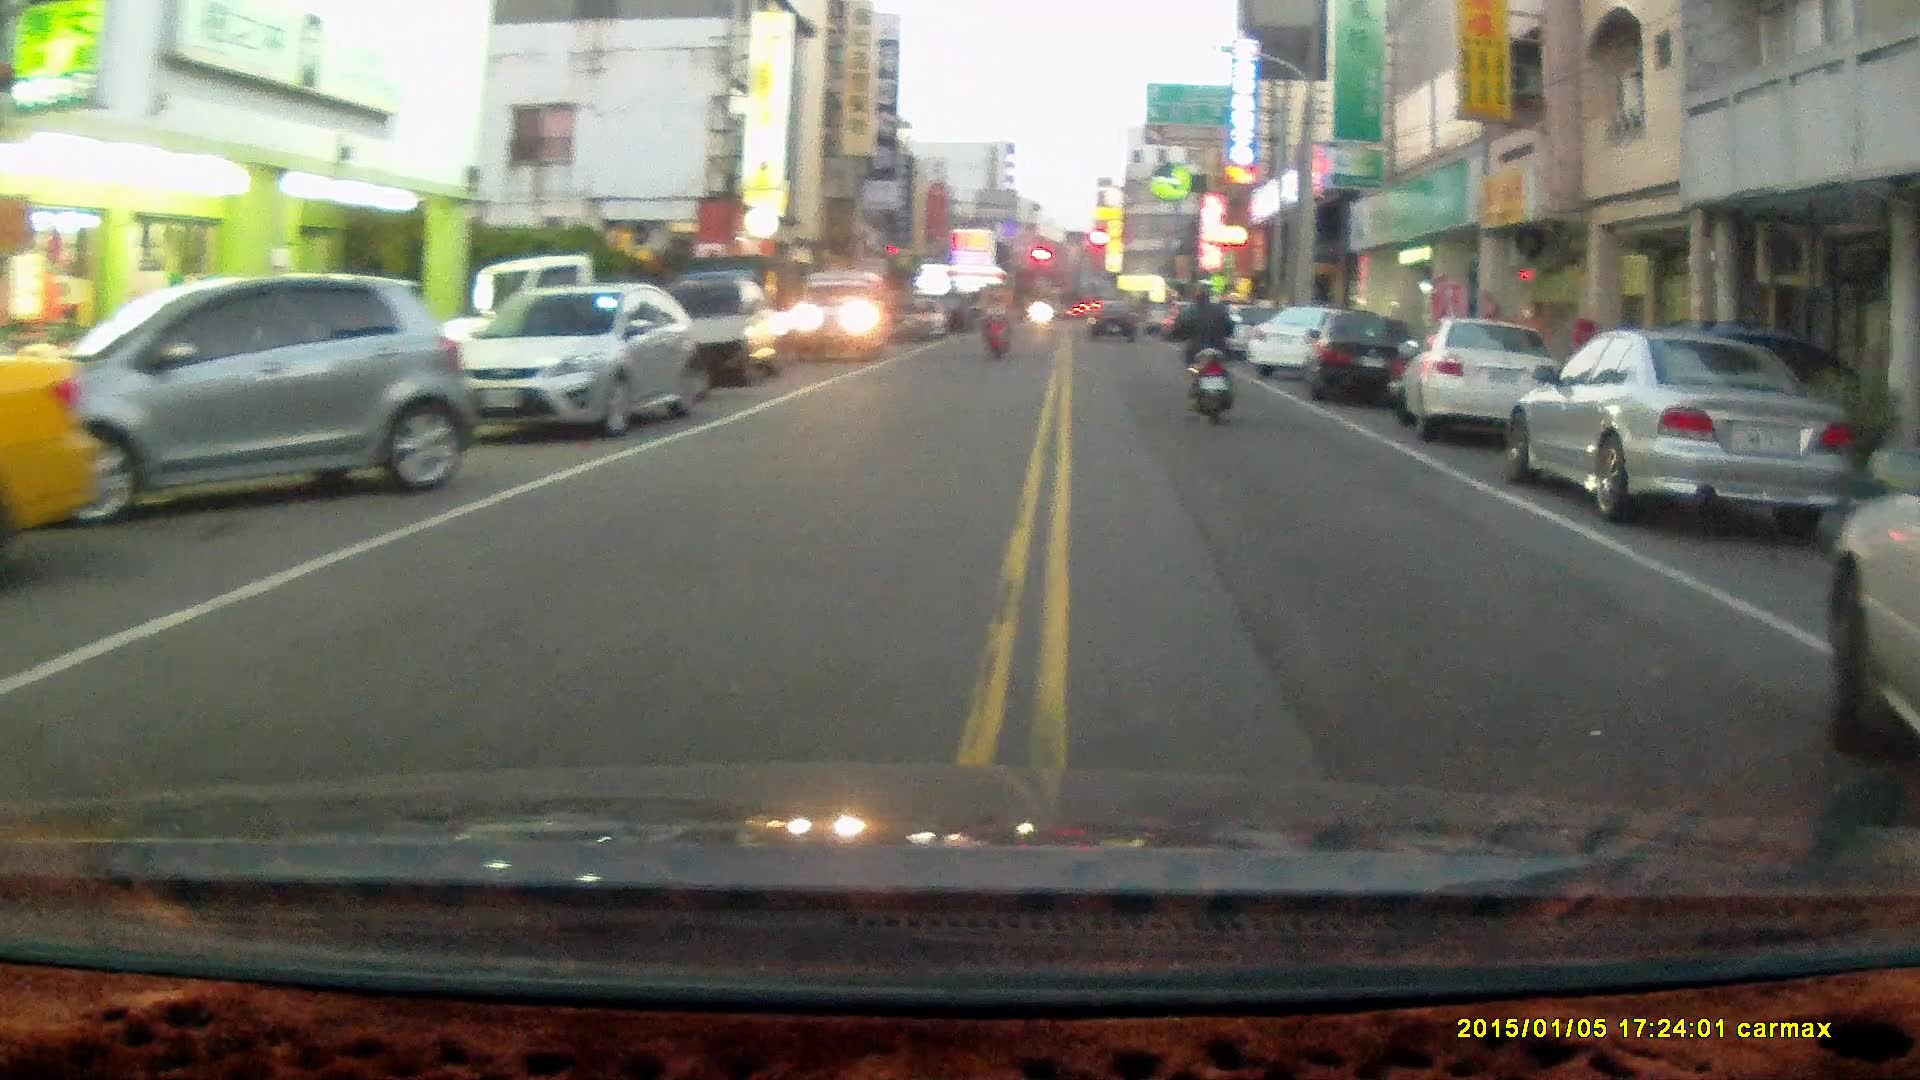rider: (1168, 282, 1239, 428), (977, 284, 1008, 363)
vehicle: (39, 275, 467, 530), (1512, 324, 1857, 529), (453, 282, 707, 443), (1824, 465, 1919, 821), (1, 293, 105, 595), (1404, 317, 1563, 442), (653, 271, 798, 390), (1307, 306, 1423, 411), (796, 268, 898, 364)
